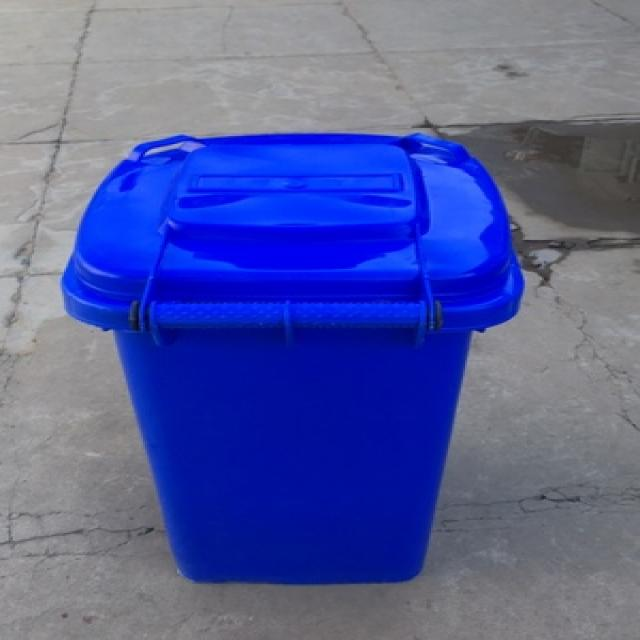ash bin: (62, 127, 525, 588)
